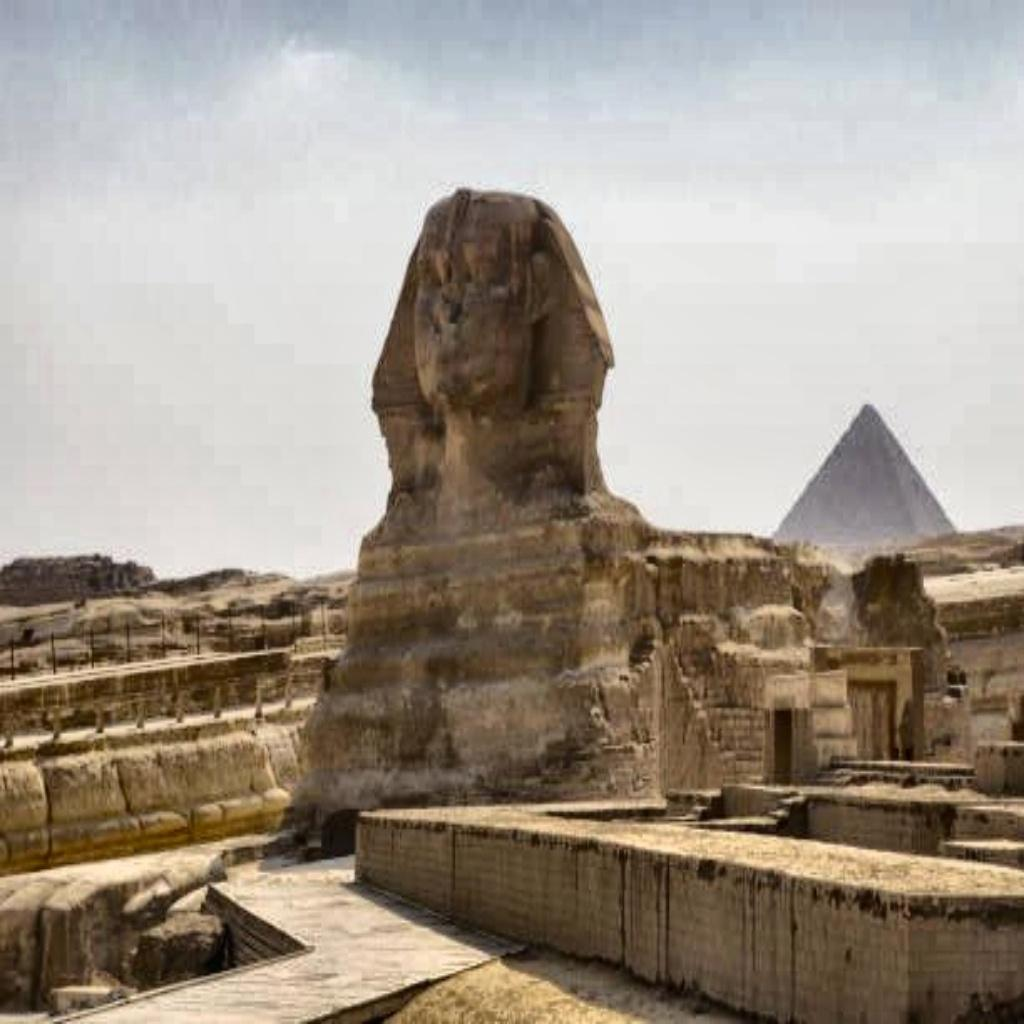Sphinx: (276, 182, 671, 852)
